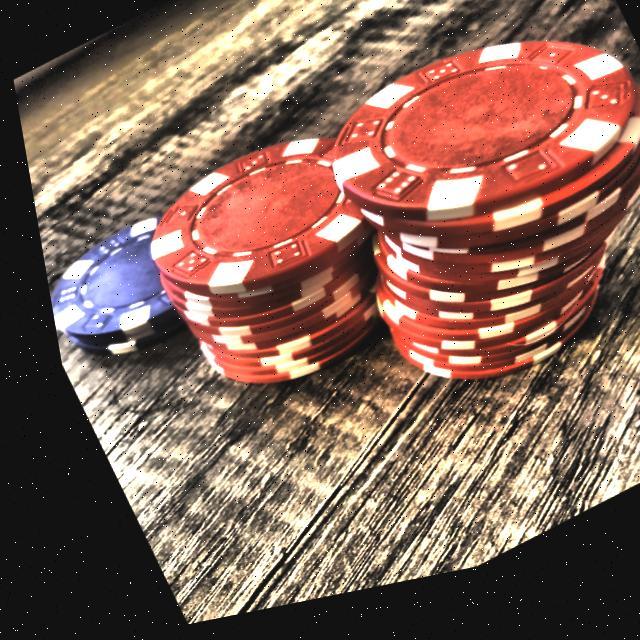Chip: (266, 0, 640, 448), (107, 107, 429, 436), (31, 202, 215, 388)
